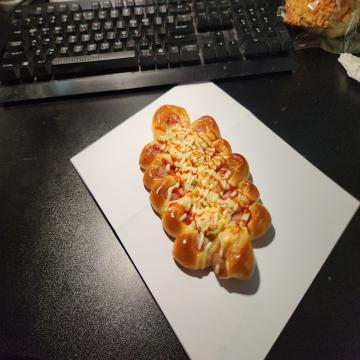pizza_bread: (139, 105, 272, 289)
